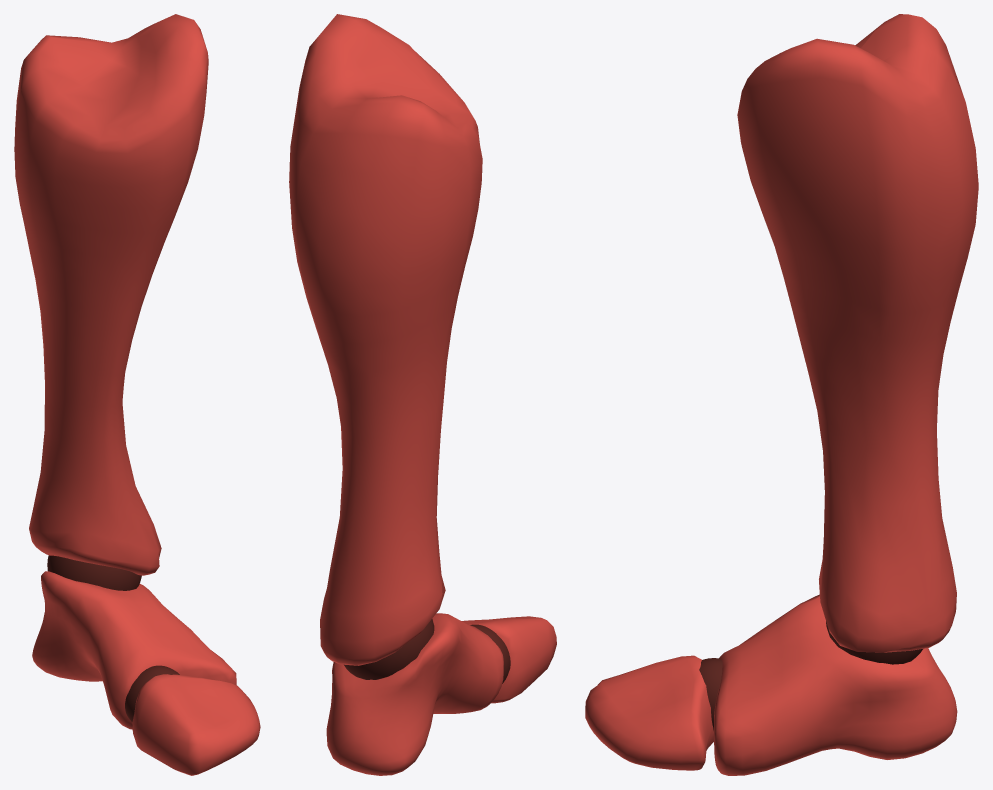
Rendered from piernaIz.obj.
The picture shows the model from 3 angles, left to right: view 1: azimuth 30°, elevation 25°; view 2: azimuth 150°, elevation 25°; view 3: azimuth 270°, elevation 25°; orthographic projection. The views are drawn at different scales.
Parts seen in each view (by area): view 1: Beta_Surface.005_Mesh.007, Beta_Joints.007_Mesh.015; view 2: Beta_Surface.005_Mesh.007, Beta_Joints.007_Mesh.015; view 3: Beta_Surface.005_Mesh.007, Beta_Joints.007_Mesh.015.
Boxes of the visible parts, x1,y1,x2,y2 form: Beta_Surface.005_Mesh.007: (14, 14, 260, 775); Beta_Joints.007_Mesh.015: (47, 555, 179, 721); Beta_Surface.005_Mesh.007: (289, 14, 556, 775); Beta_Joints.007_Mesh.015: (344, 619, 510, 683); Beta_Surface.005_Mesh.007: (585, 14, 978, 775); Beta_Joints.007_Mesh.015: (699, 621, 922, 730).
Bounding box in the file's own units: 0.1363 × 0.551 × 0.2642.
